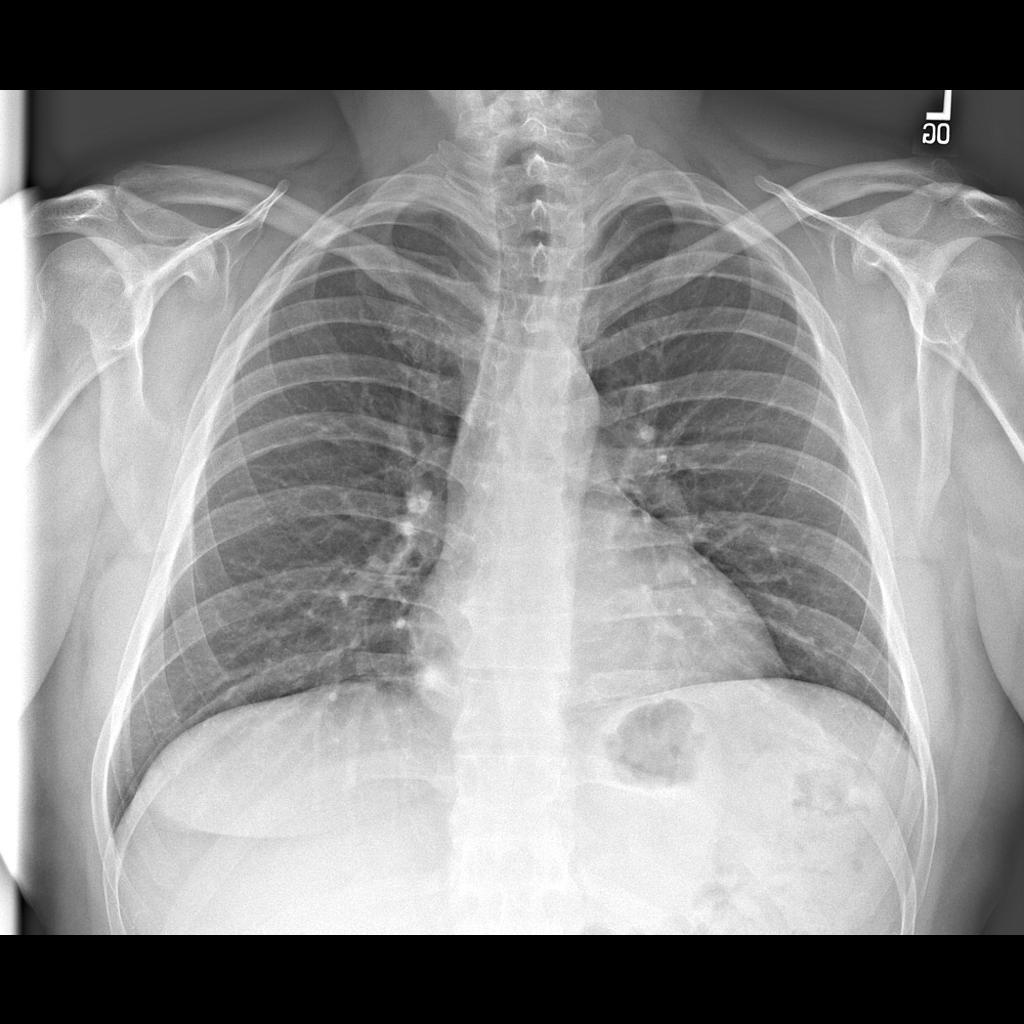Nodule: (411, 655, 456, 709)
